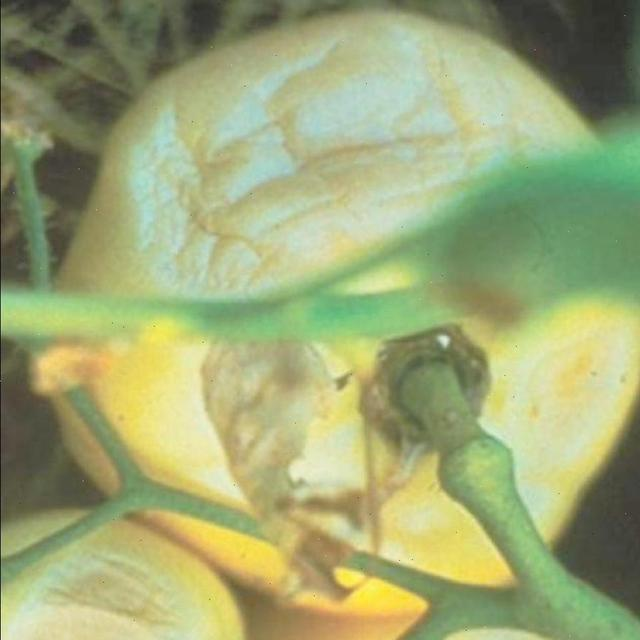Sunscald Fruit: (69, 17, 390, 245)
